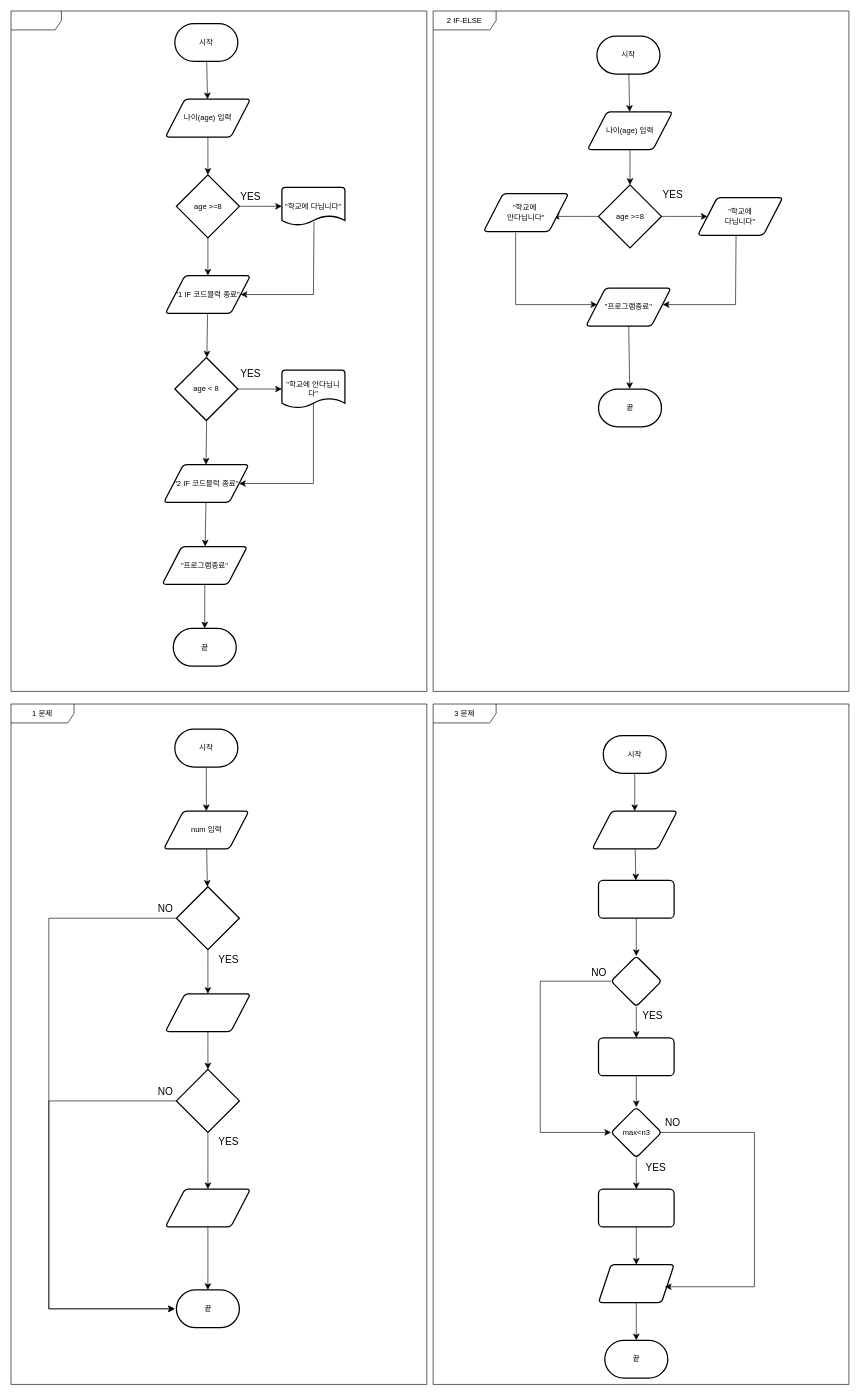
Some shapes in this 860 by 1395 pixel diagram are drawn without their labels. The centre of each missing label's shape, as x and y in pixels:
"3의 배수입니다": [207,1012]
"5의 배수입니다": [207,1207]
1 IF: [218,350]
max = n1: [636,899]
max = n2: [636,1056]
max 출력: [636,1283]
max<n2: [636,981]
max=n3: [636,1207]
n1,n2,n3 입력: [634,829]
num%3==0: [207,918]
num%5==0: [207,1100]
